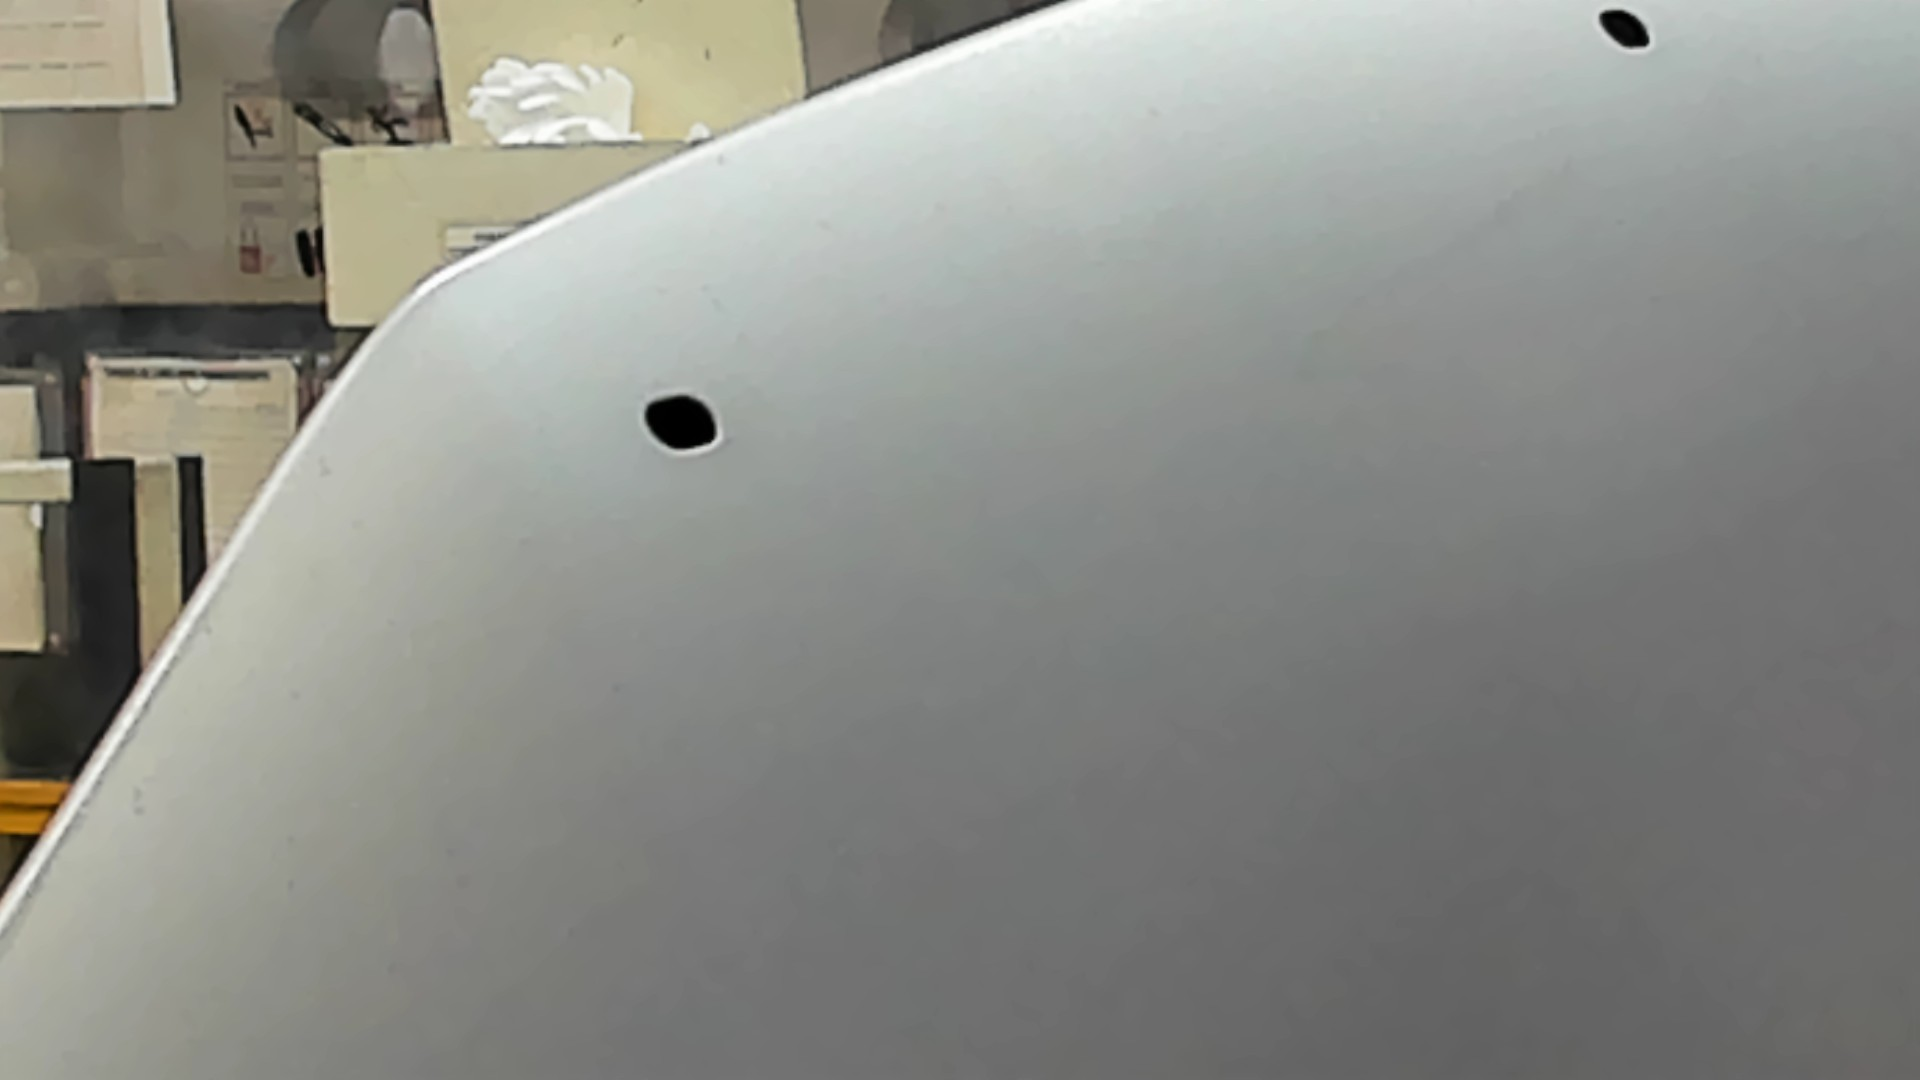Agujero: (638, 392, 727, 459), (1593, 4, 1662, 57)
